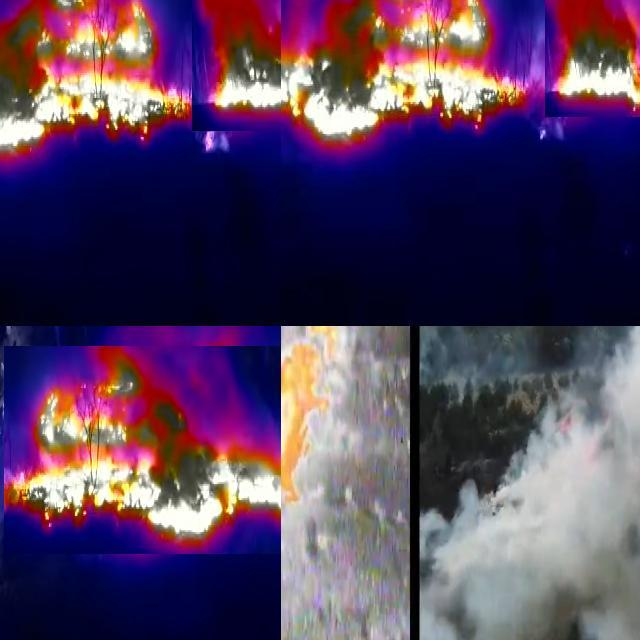fire: (4, 346, 282, 554), (282, 1, 534, 147), (1, 1, 190, 159), (192, 1, 282, 131), (545, 1, 640, 117), (282, 327, 340, 508)
